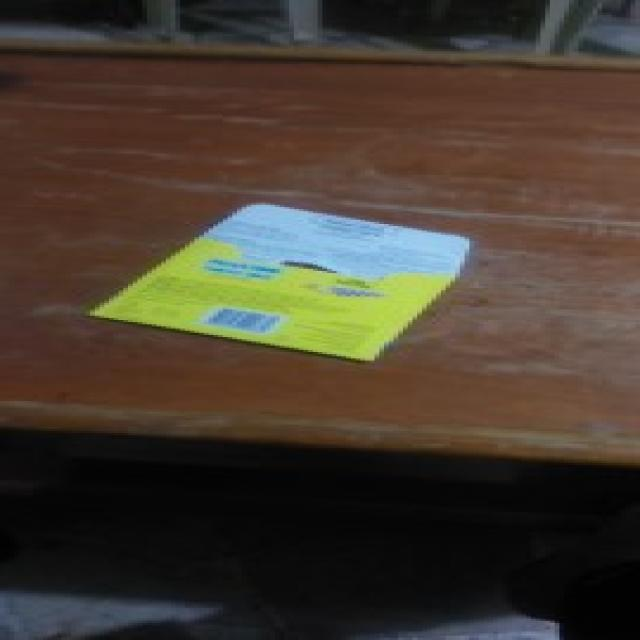Cacat: (91, 203, 476, 363)
